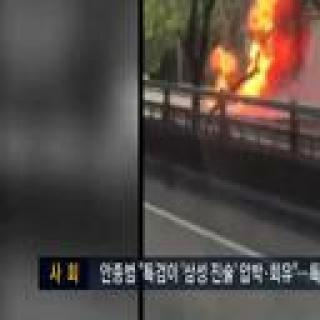fire: (235, 0, 300, 105), (211, 46, 227, 113)
